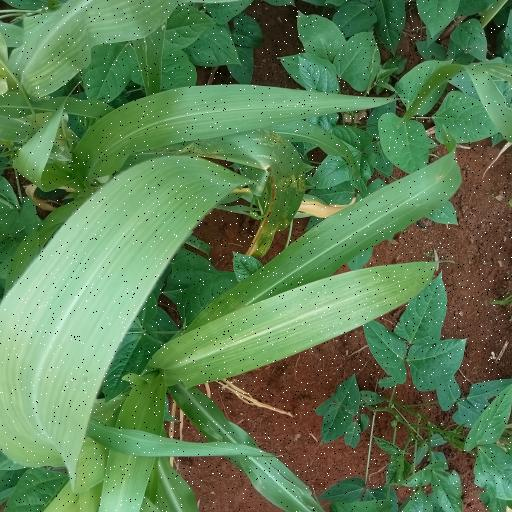Corn_Brown_Spots: (219, 130, 305, 268)
